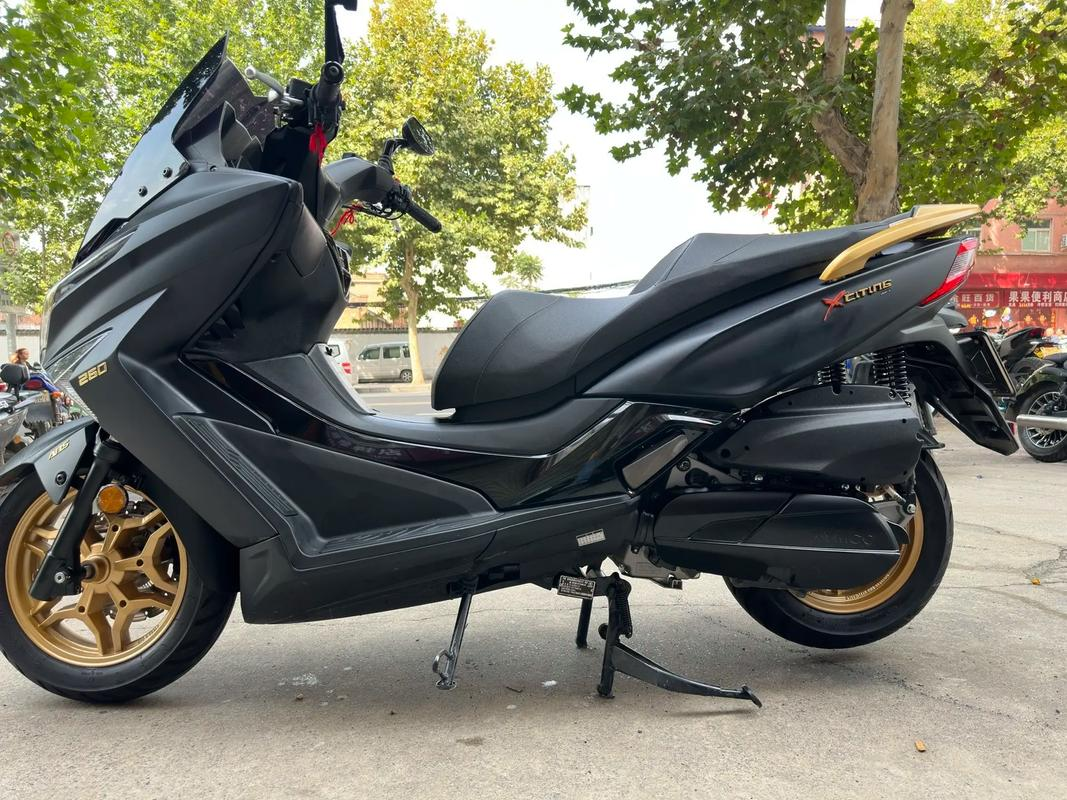摩托车: (1, 1, 994, 726)
